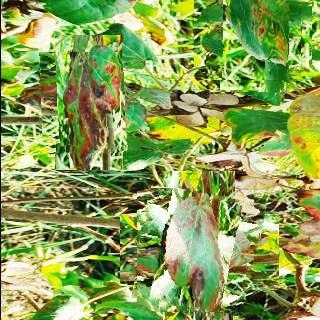blight: (38, 52, 139, 153), (205, 0, 300, 80)
leaf spot: (136, 188, 261, 313)
